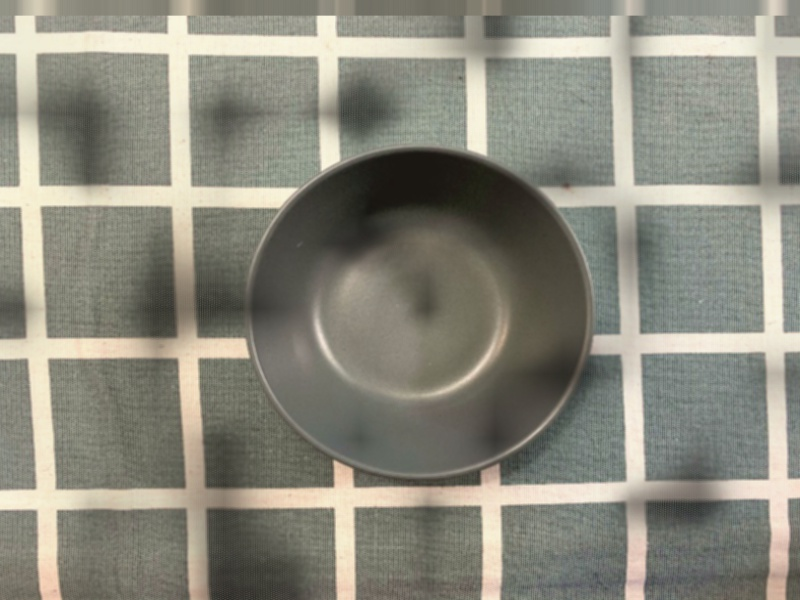bowl_big: (234, 138, 617, 493)
